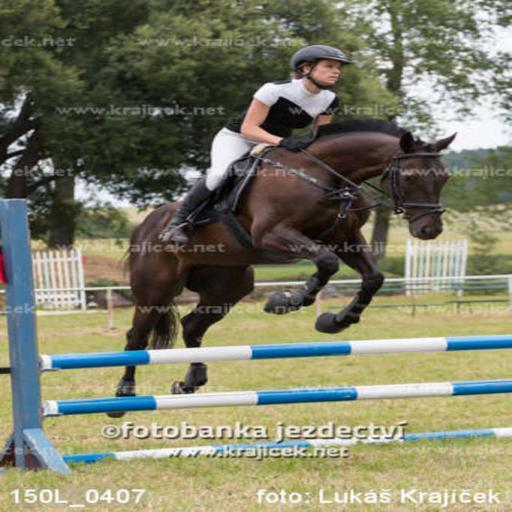horse: (104, 117, 458, 417)
